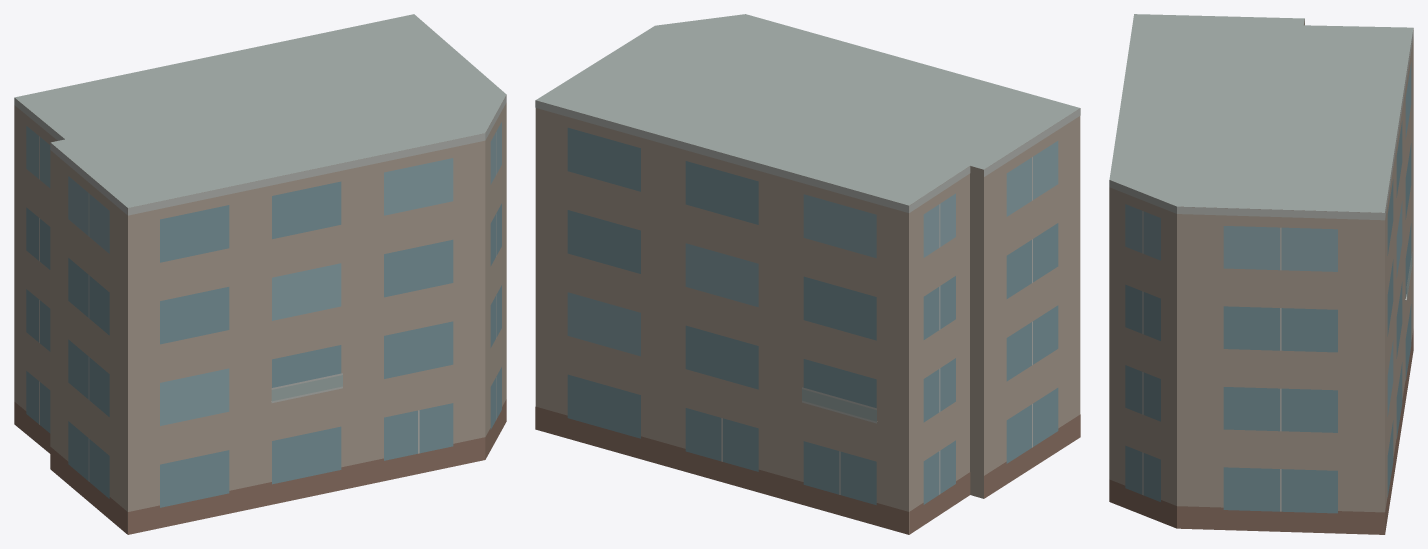
Rendered from survey-upis-33037144.glb.
The picture shows the model from 3 angles, left to right: view 1: azimuth 30°, elevation 25°; view 2: azimuth 150°, elevation 25°; view 3: azimuth 270°, elevation 25°; orthographic projection. The views are drawn at different scales.
Visible parts, largest first — view 1: survey-upis-33037144.tmp; view 2: survey-upis-33037144.tmp; view 3: survey-upis-33037144.tmp.
Part boxes in pixels (x1=…): survey-upis-33037144.tmp: x1=14, y1=14, x2=506, y2=534; survey-upis-33037144.tmp: x1=535, y1=14, x2=1080, y2=534; survey-upis-33037144.tmp: x1=1109, y1=14, x2=1413, y2=534.
Size of the model in its own units: 14.05 by 10.6 by 9.08.
